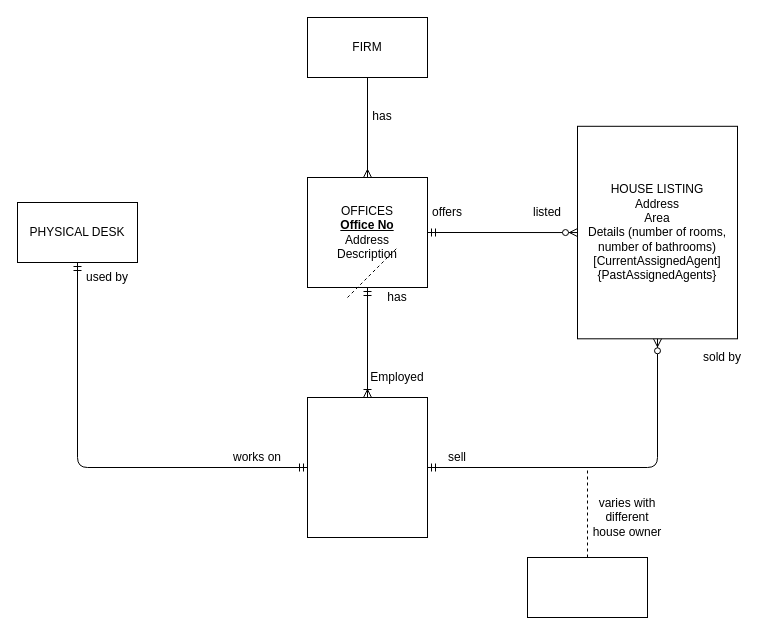
This 765x635 diagram has some shape labels left out. Here are the shapes that lost their labels. From the top down, the centre of each, then its label:
At point (367, 467): "SALE AGENT EmployeeID EmployeeName(...) Salary(...)".
At point (587, 587): "House Comission".
